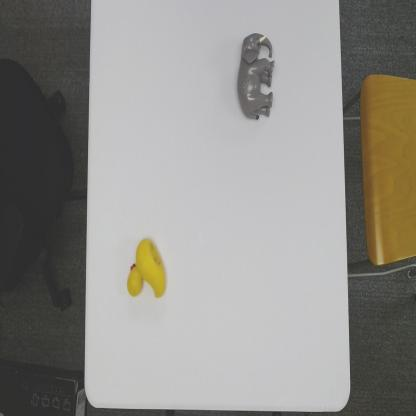Duck: (126, 234, 167, 300)
Elephant: (236, 29, 276, 124)
